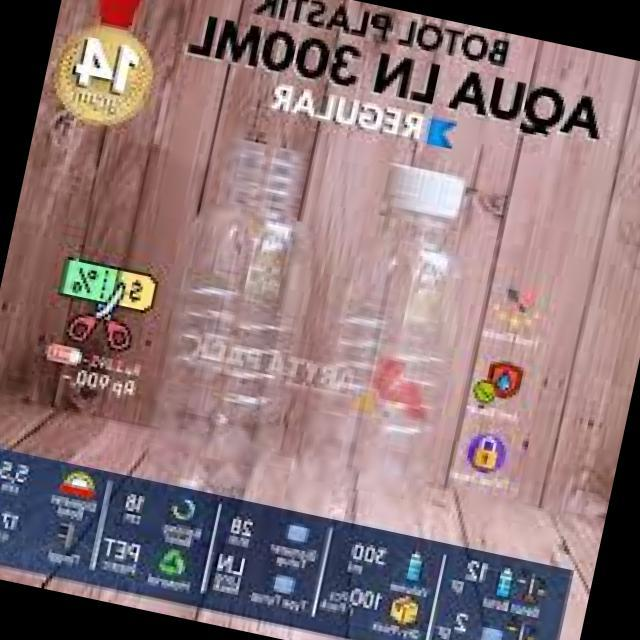good: (113, 118, 334, 510), (272, 146, 494, 529)
